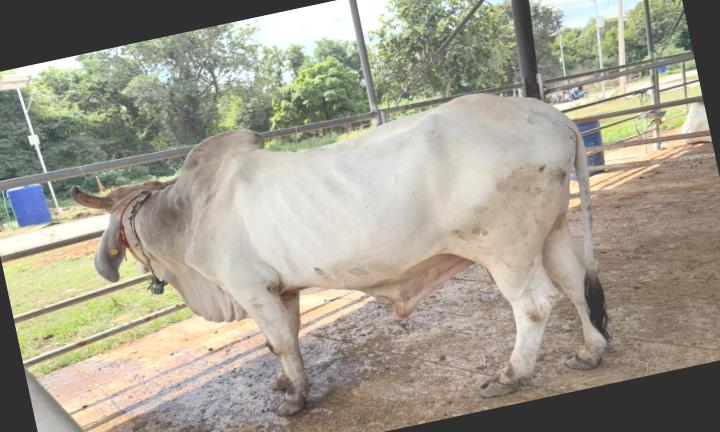Brahman: (72, 94, 613, 415)
